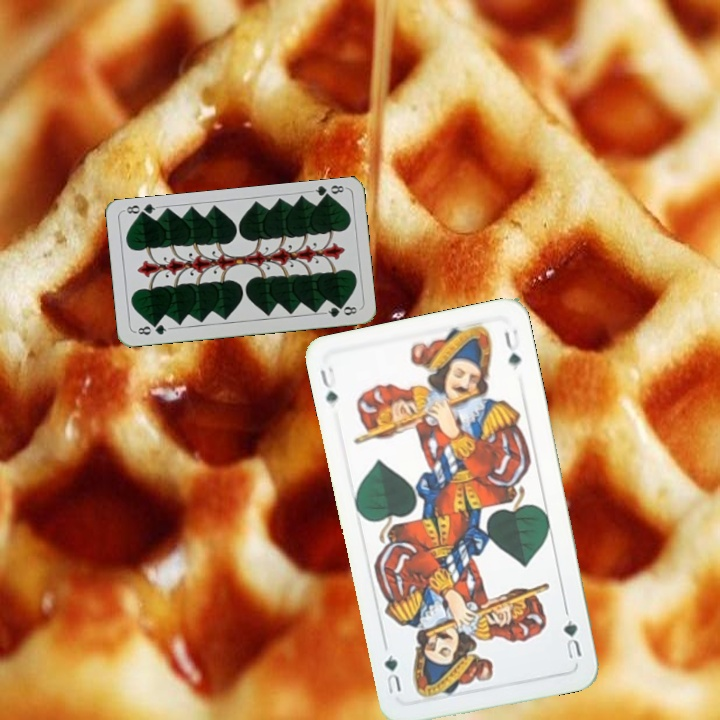G8: (307, 181, 348, 202), (132, 320, 172, 338)
GU: (559, 606, 585, 662), (316, 362, 341, 407)
